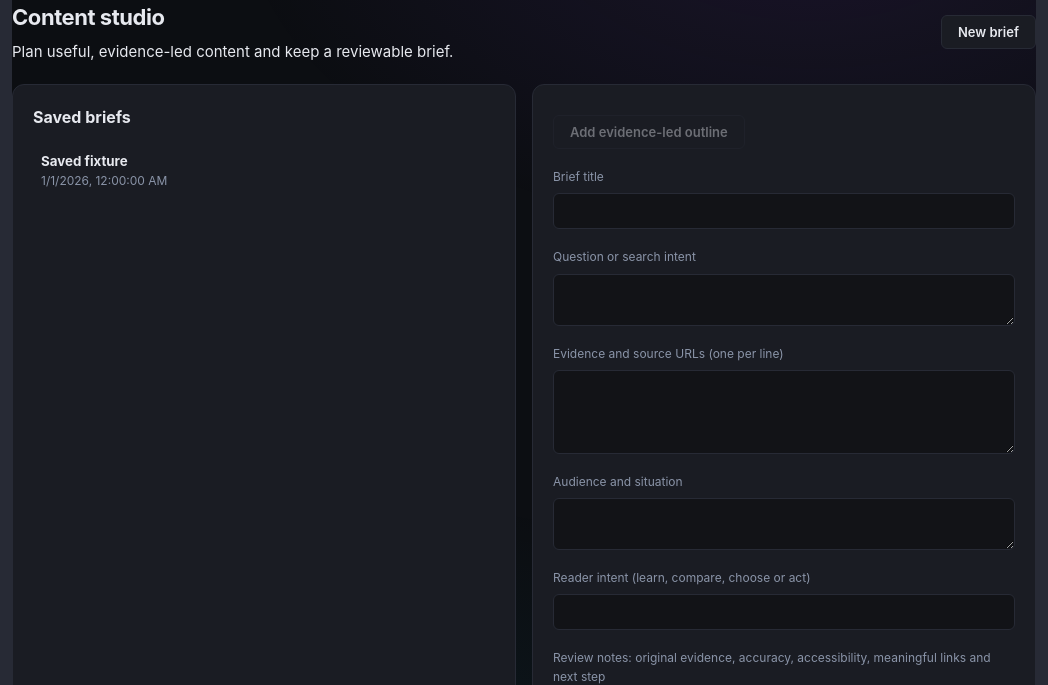
Scenario: disables Delete brief for viewers
Click the button "Saved fixture 1/1/2026, 12:00:00 AM". click: (84, 161)
box: 33,141 -> 495,200
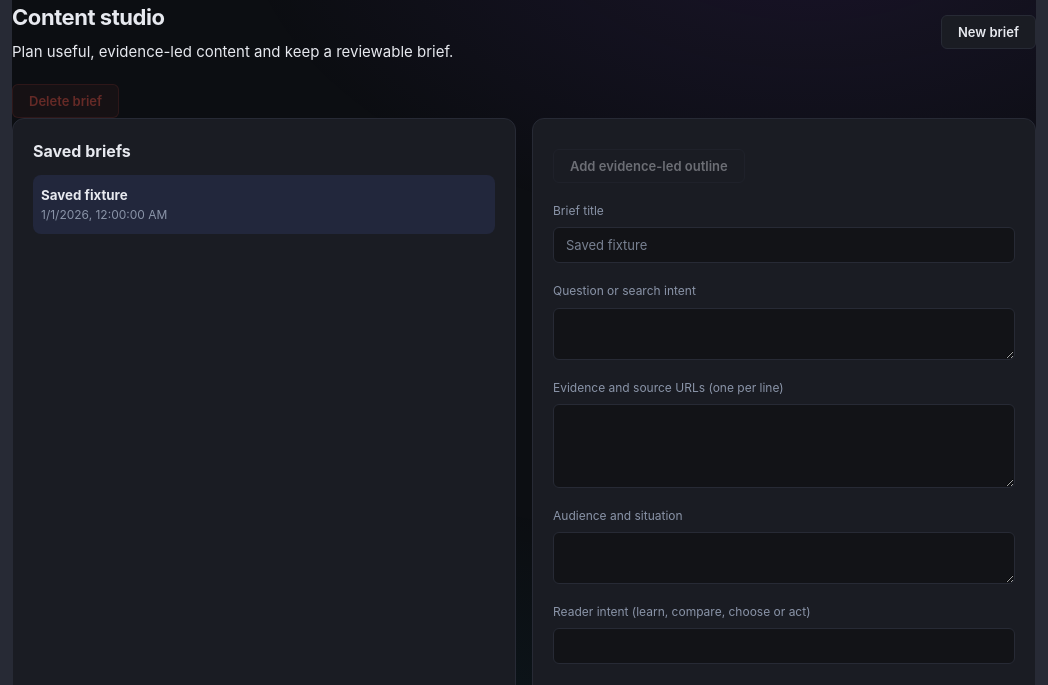
Expected: the button "Delete brief" is disabled, 12,84 -> 119,118
